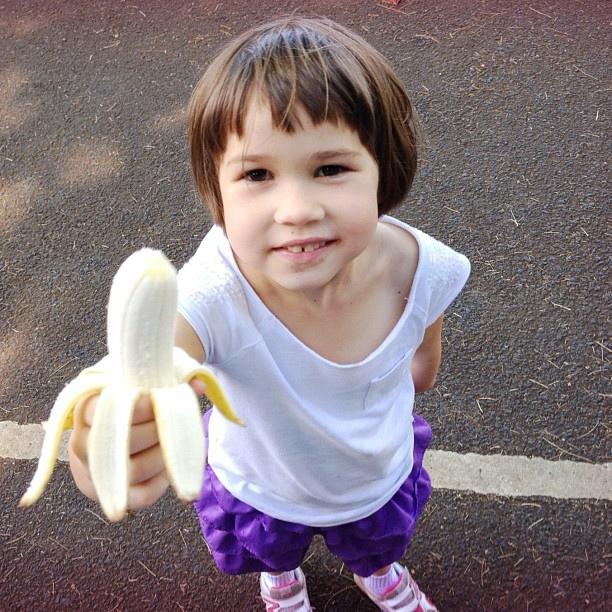banana: (16, 248, 245, 522)
